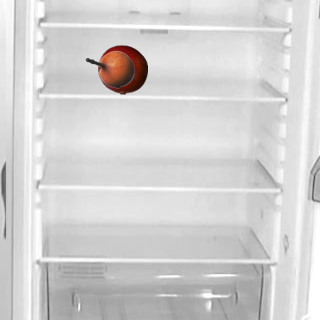Apple Braeburn: (97, 44, 147, 94)
Granadilla: (84, 44, 134, 94)
